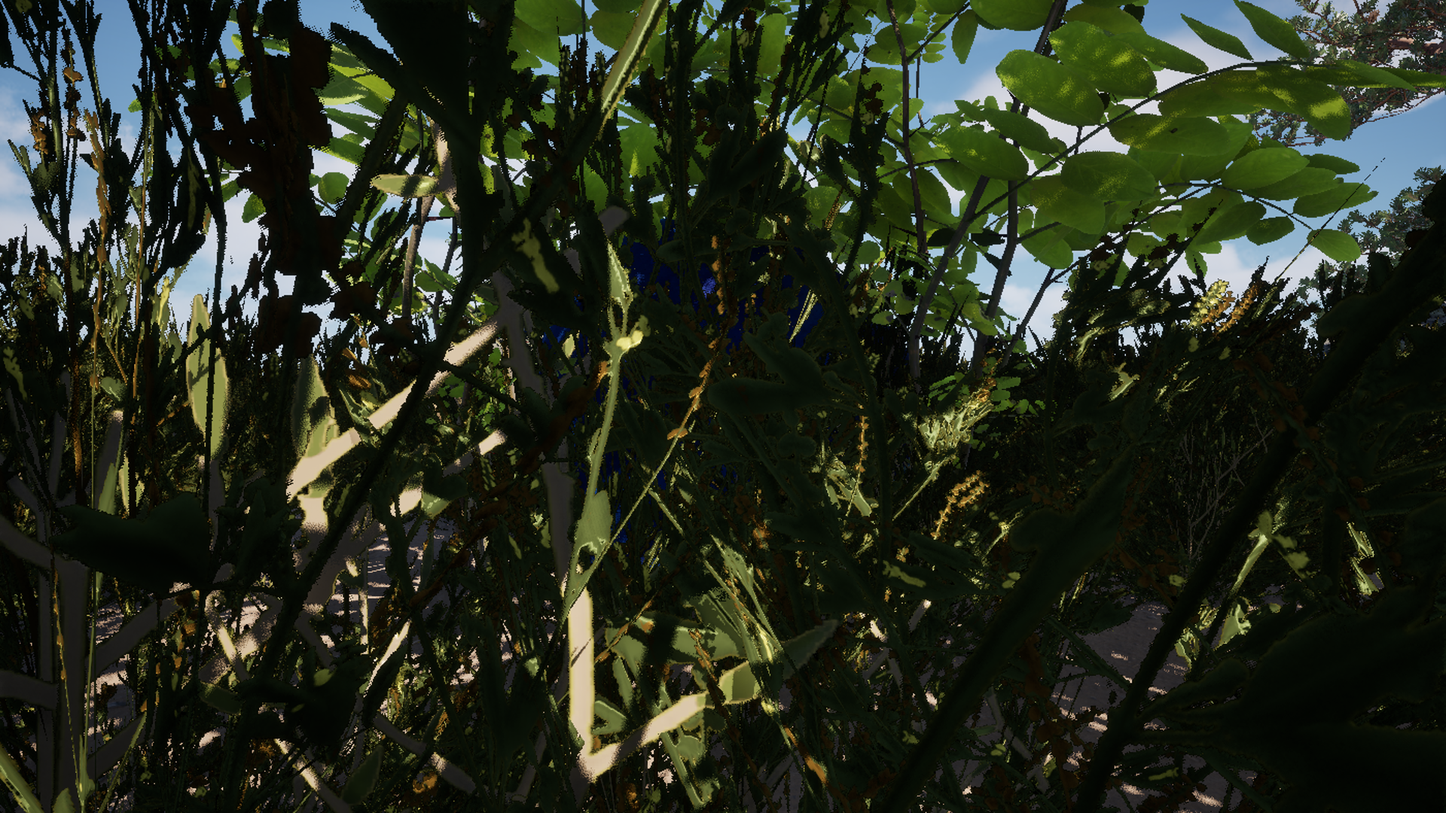Piplup: (375, 0, 1096, 813)
